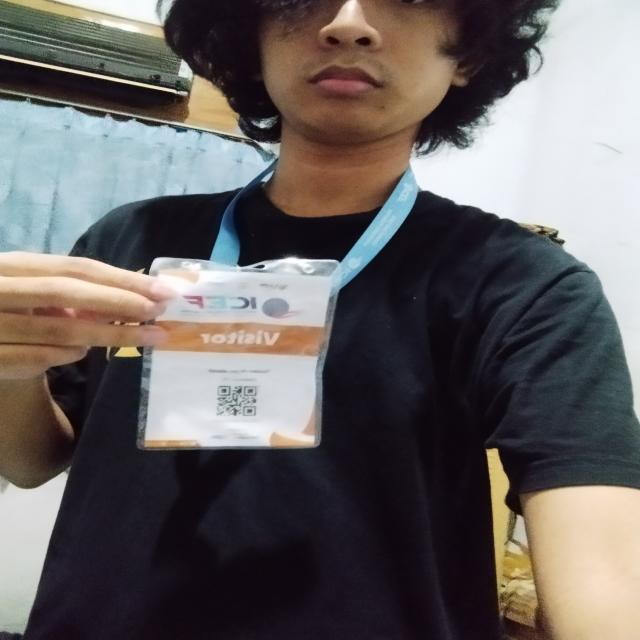ID_card: (136, 256, 339, 451)
